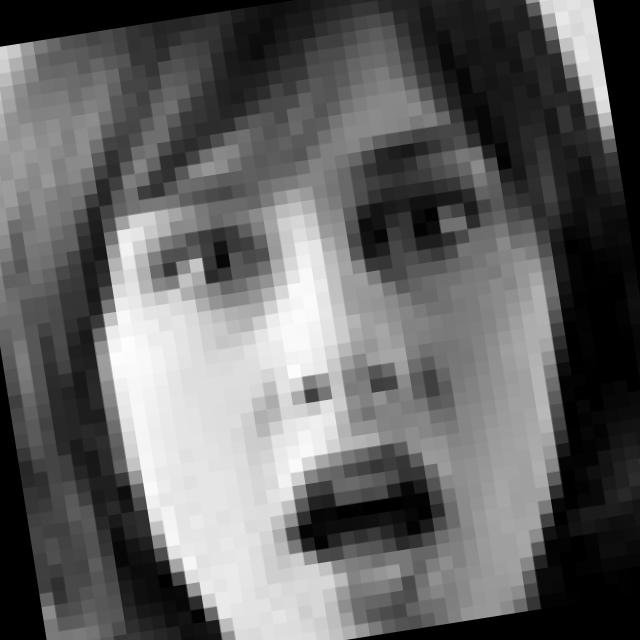surprise: (123, 105, 566, 612)
